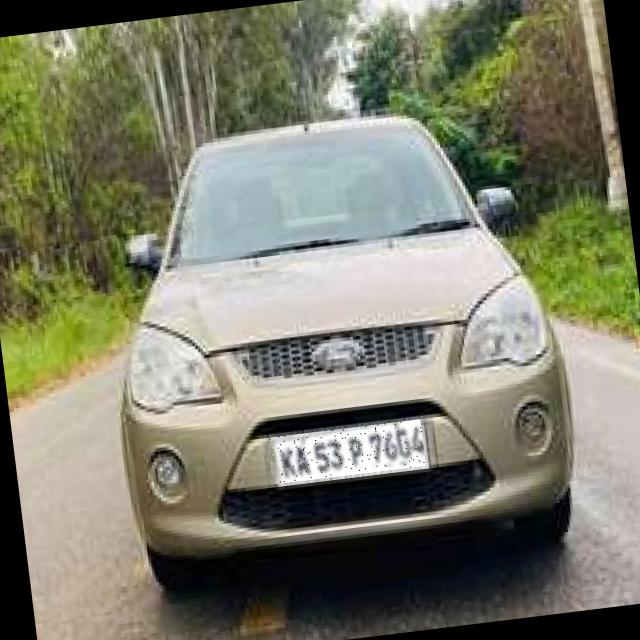Plate: (270, 420, 427, 485)
